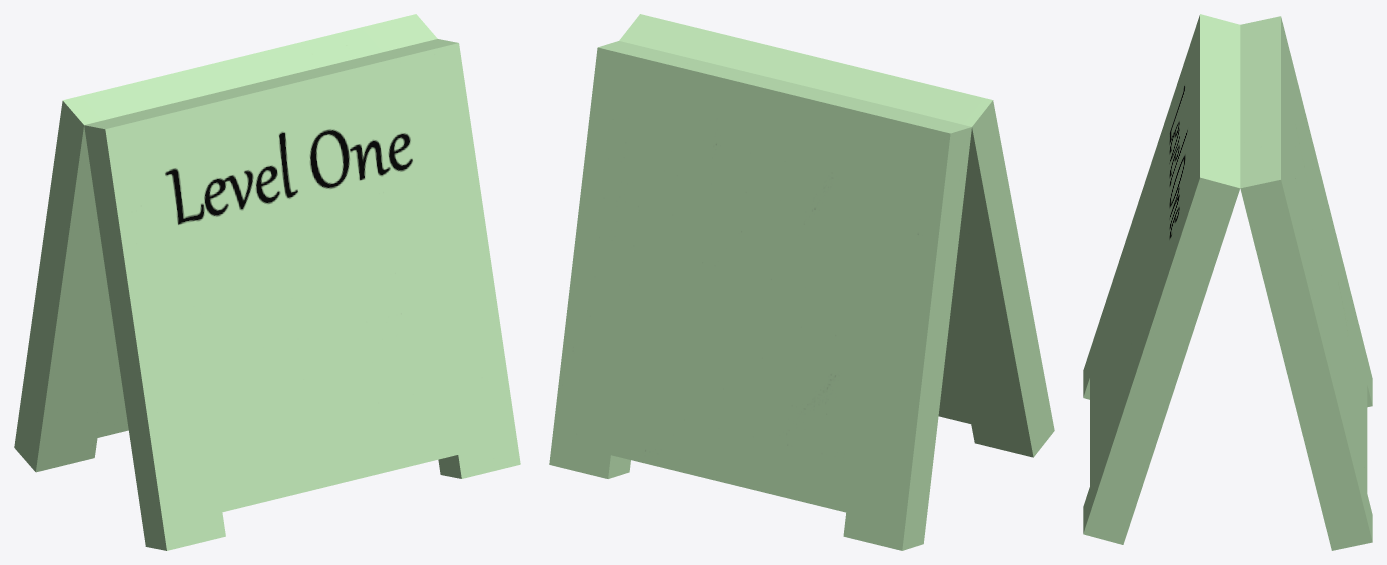
Rendered from ENV_sign_lvl1.fbx.
3 views of the same model, side by side, from view 1: azimuth 30°, elevation 25°; view 2: azimuth 150°, elevation 25°; view 3: azimuth 270°, elevation 25° (orthographic). The views are drawn at different scales.
Visible parts, largest first — view 1: pCube3; view 2: pCube3; view 3: pCube3.
Part boxes in pixels (left/top/right/bottom): pCube3: left=14, top=14, right=520, bottom=550; pCube3: left=549, top=14, right=1054, bottom=550; pCube3: left=1083, top=14, right=1372, bottom=550.
Size of the model in its own units: 0.8939 by 0.9516 by 0.6686.
